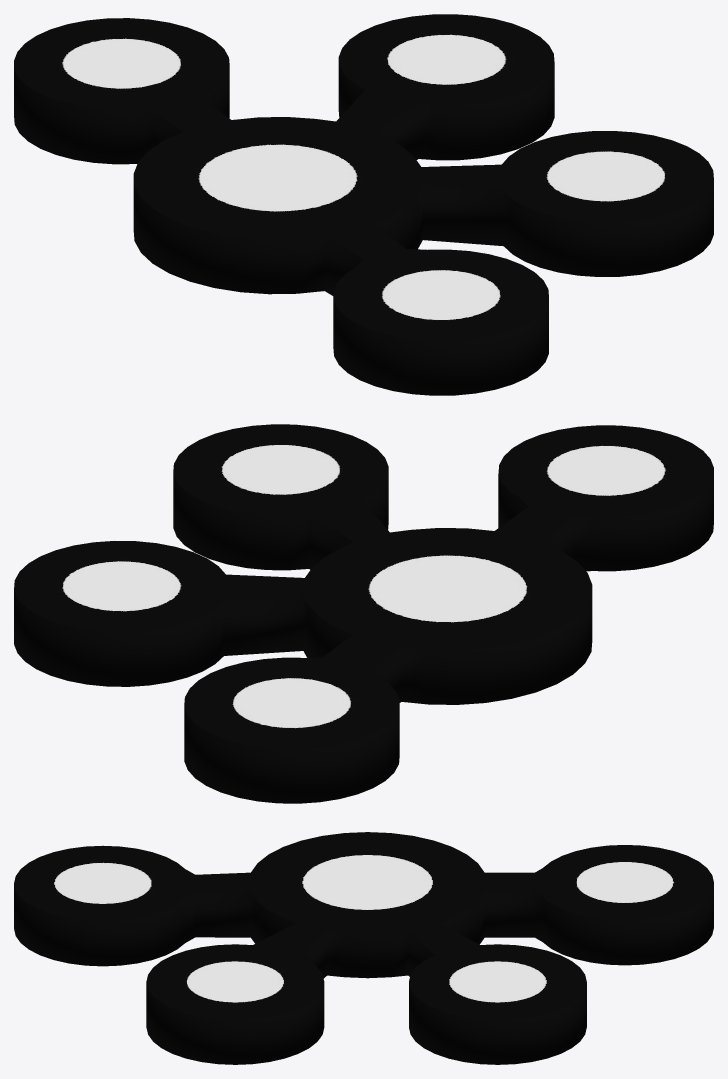
Rendered from Apache_kafka.obj.
The picture shows the model from 3 angles, top to bottom: view 1: azimuth 30°, elevation 25°; view 2: azimuth 150°, elevation 25°; view 3: azimuth 270°, elevation 25°; orthographic projection. The views are drawn at different scales.
Visible parts, largest first — view 1: Circle.001; view 2: Circle.001; view 3: Circle.001.
Boxes of the visible parts, x1,y1,x2,y2 form: Circle.001: (14, 14, 713, 395); Circle.001: (14, 424, 713, 803); Circle.001: (14, 832, 713, 1064).
Size of the model in its own units: 9.69 by 1.09 by 15.28.
1 material, 1 textured.
